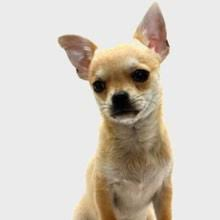chihuahua: (27, 2, 196, 216)
